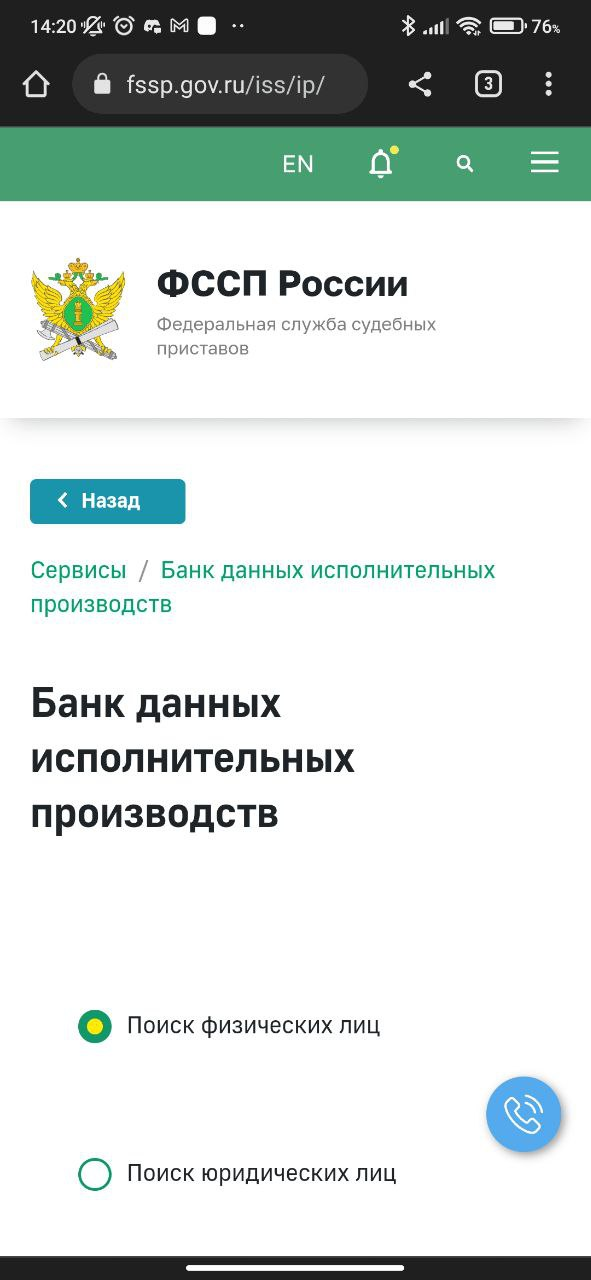burger_menu: (527, 145, 564, 177)
